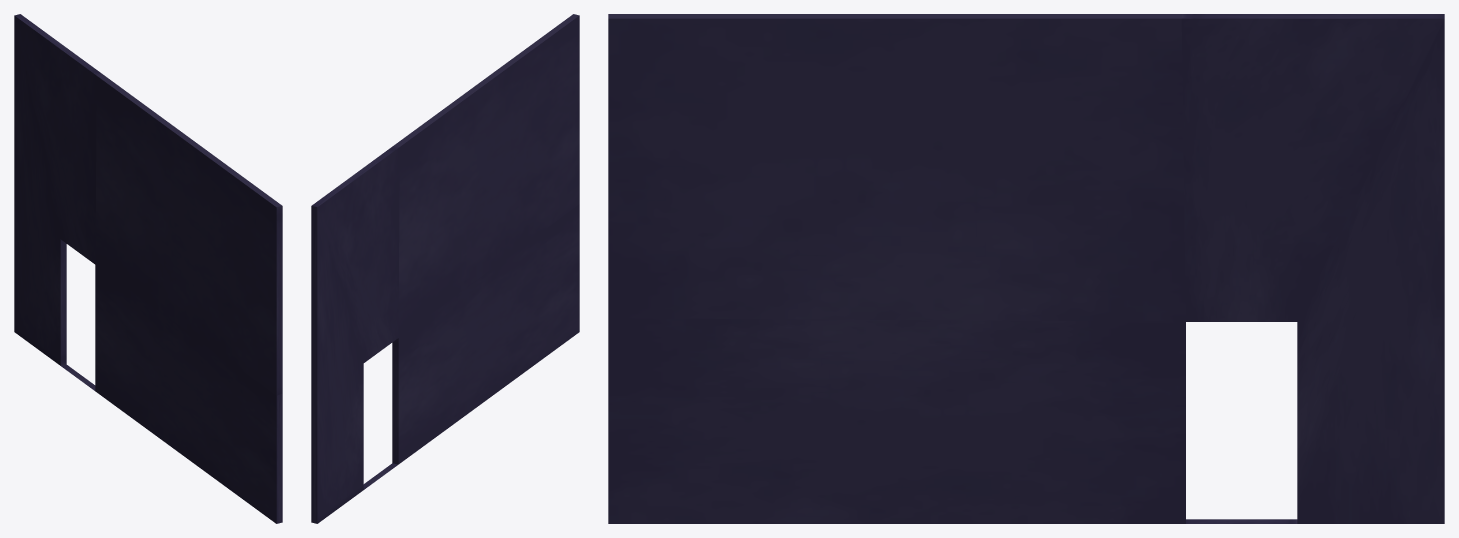
Rendered from wall 1.fbx.
The picture shows the model from 3 angles, left to right: view 1: azimuth 30°, elevation 25°; view 2: azimuth 150°, elevation 25°; view 3: azimuth 270°, elevation 25°; orthographic projection. The views are drawn at different scales.
Visible parts, largest first — view 1: wall; view 2: wall; view 3: wall.
Part boxes in pixels (bbox=[...]): wall: bbox=[14, 14, 282, 523]; wall: bbox=[311, 14, 579, 523]; wall: bbox=[608, 14, 1444, 523].
Bounding box in the file's own units: 10 × 500 × 750.
